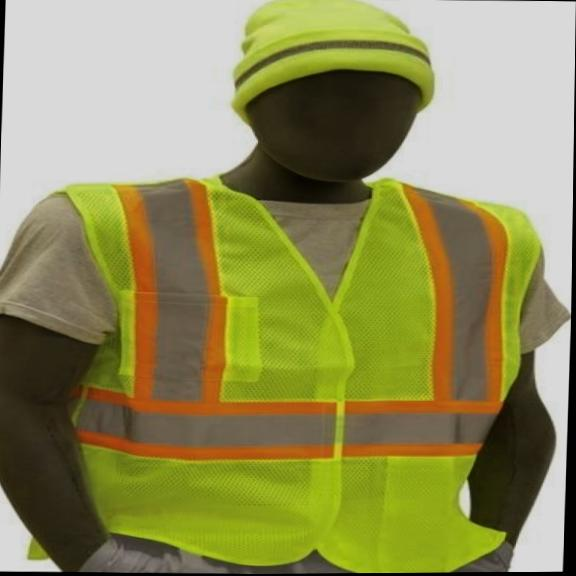safety_vest: (23, 172, 547, 576)
